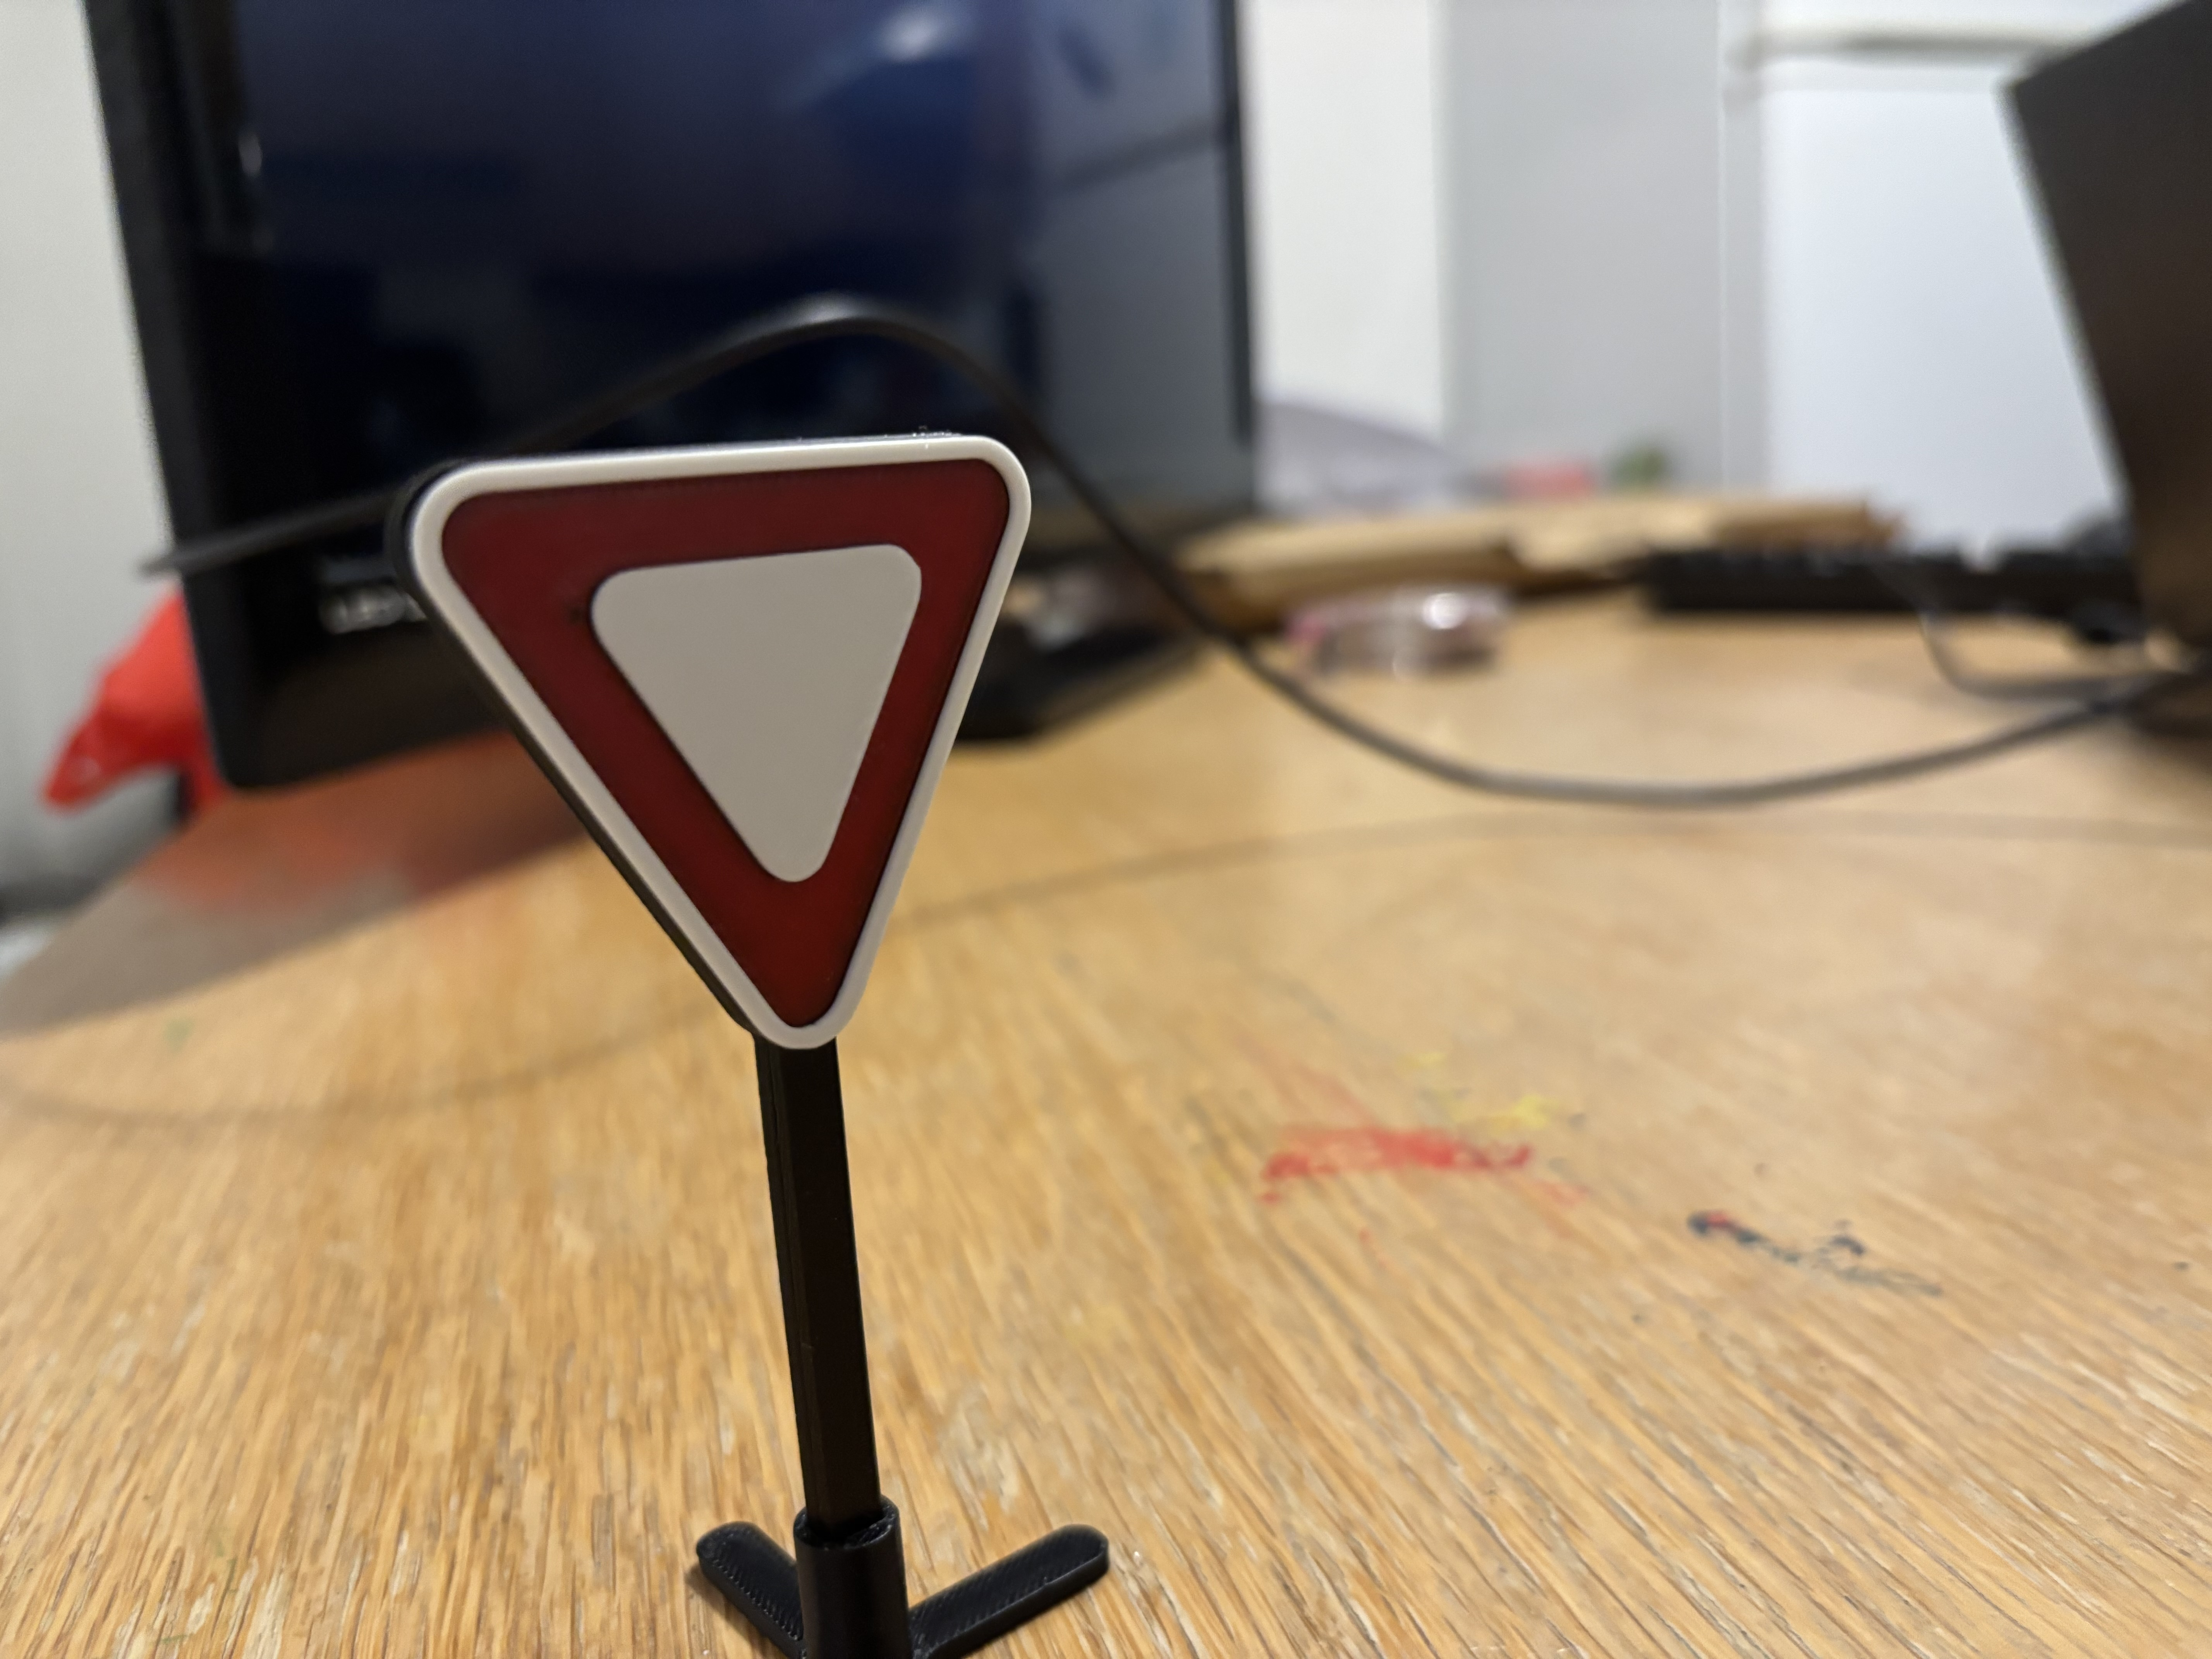sign_yield: (357, 429, 1017, 1049)
